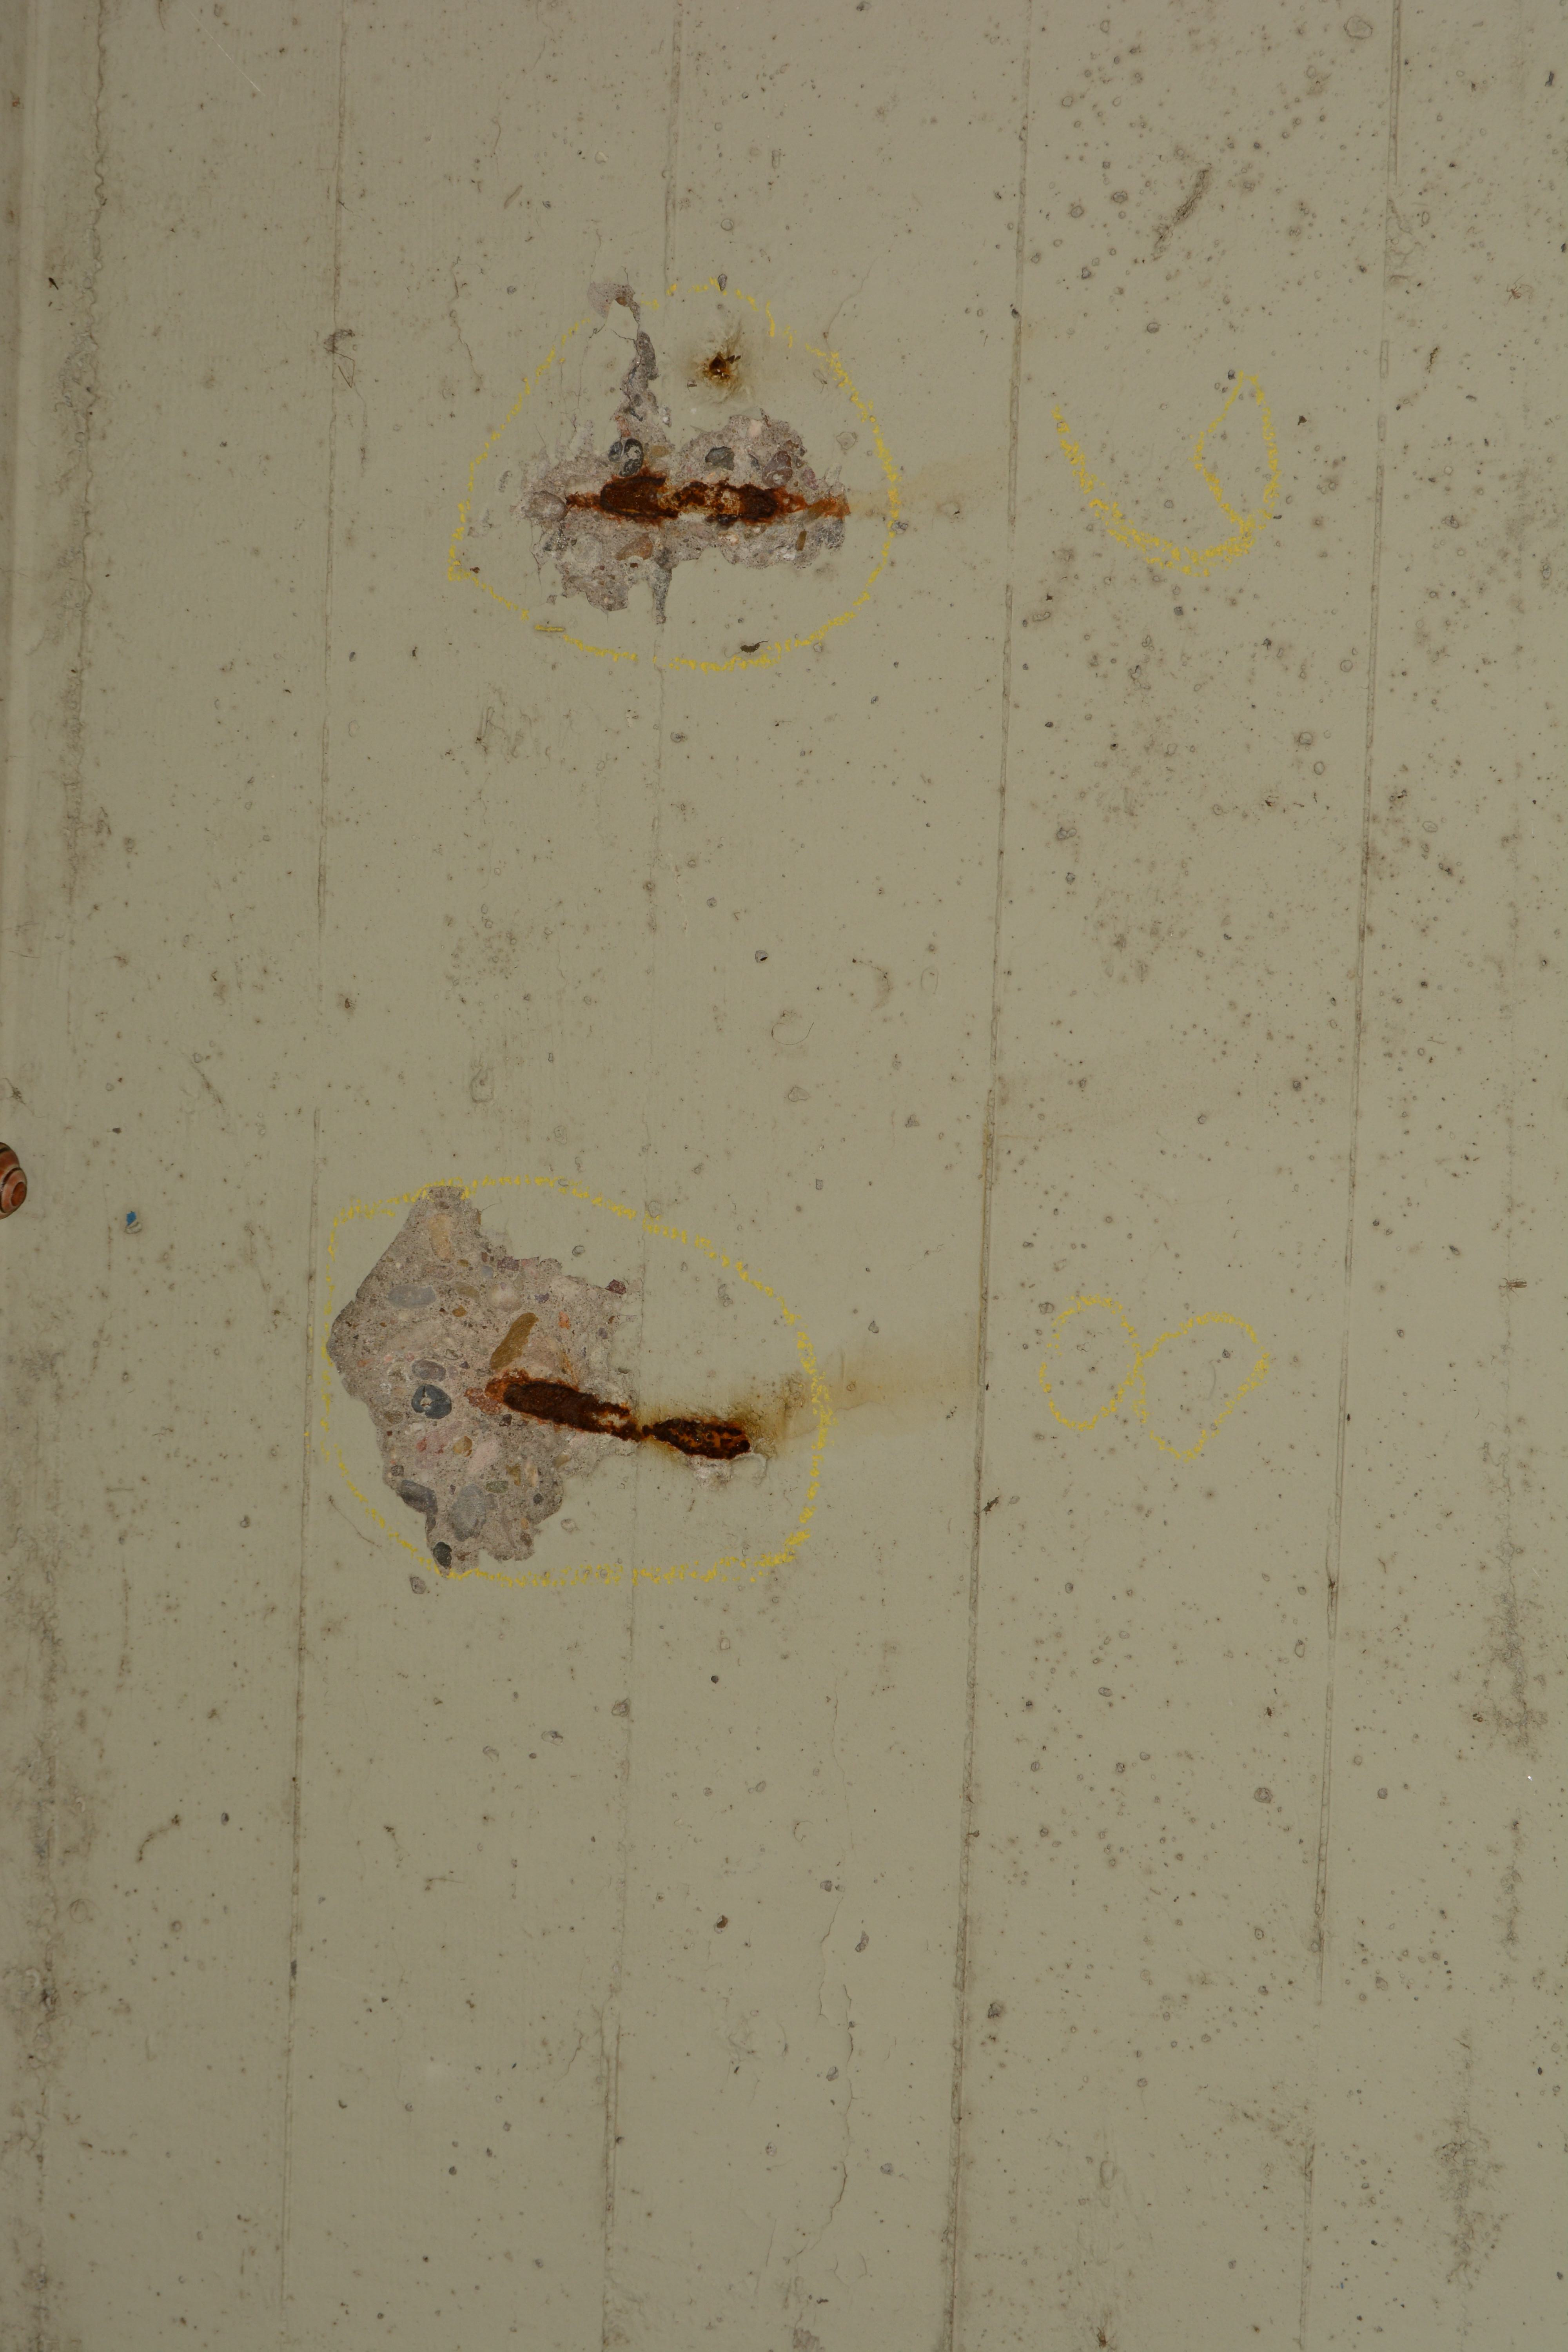Corrosion: (777, 487, 851, 520), (705, 352, 742, 385), (563, 492, 600, 509)
Exposed reinforcement: (502, 1382, 751, 1459), (600, 476, 777, 523)
Spalling: (325, 1185, 642, 1573), (509, 280, 851, 623)
